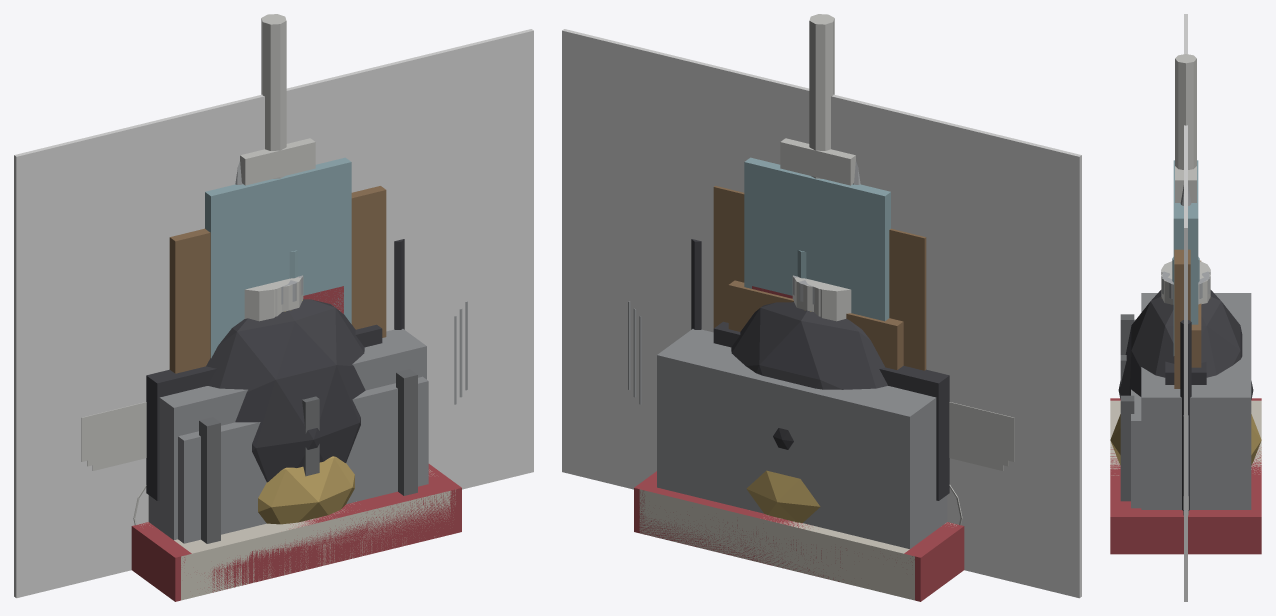
The model's file is props240.glb.
The picture shows the model from 3 angles, left to right: view 1: azimuth 30°, elevation 25°; view 2: azimuth 150°, elevation 25°; view 3: azimuth 270°, elevation 25°; orthographic projection. The views are drawn at different scales.
Parts seen in each view (by area): view 1: 129_blood_puddle_decal, 004_iv_bag, 188_waste_bag, 131_wall_scratch_decal, 178_small_crate, 123_mantra_book, 033_clipboard, 183_instrument_case, 044_lunchbox, 057_maternity_file, 130_bloody_handprint_decal, 122_copper_lota (+9 smaller); view 2: 129_blood_puddle_decal, 178_small_crate, 004_iv_bag, 130_bloody_handprint_decal, 034_patient_folder, 188_waste_bag, 033_clipboard, 123_mantra_book, 057_maternity_file, 162_bp_cuff, 092_tube_light_segment, 048_photo_frame (+7 smaller); view 3: 178_small_crate, 123_mantra_book, 188_waste_bag, 004_iv_bag, 092_tube_light_segment, 129_blood_puddle_decal, 162_bp_cuff, 033_clipboard, 183_instrument_case, 057_maternity_file, 122_copper_lota, 048_photo_frame (+3 smaller).
Part boxes in pixels (<box>): 129_blood_puddle_decal: <box>14,29,533,598</box>; 004_iv_bag: <box>205,138,351,358</box>; 188_waste_bag: <box>206,299,365,482</box>; 131_wall_scratch_decal: <box>132,59,407,401</box>; 178_small_crate: <box>148,329,426,543</box>; 123_mantra_book: <box>131,464,461,601</box>; 033_clipboard: <box>169,186,386,373</box>; 183_instrument_case: <box>178,376,428,543</box>; 044_lunchbox: <box>195,388,397,534</box>; 057_maternity_file: <box>186,490,450,575</box>; 130_bloody_handprint_decal: <box>120,110,429,568</box>; 122_copper_lota: <box>258,456,354,524</box>; 129_blood_puddle_decal: <box>562,29,1081,598</box>; 178_small_crate: <box>657,329,947,548</box>; 004_iv_bag: <box>744,138,890,321</box>; 130_bloody_handprint_decal: <box>666,85,975,386</box>; 034_patient_folder: <box>639,489,956,600</box>; 188_waste_bag: <box>731,302,887,449</box>; 033_clipboard: <box>713,186,926,370</box>; 123_mantra_book: <box>634,471,964,601</box>; 057_maternity_file: <box>645,490,909,562</box>; 162_bp_cuff: <box>691,239,949,500</box>; 092_tube_light_segment: <box>809,14,834,178</box>; 048_photo_frame: <box>728,280,903,369</box>; 178_small_crate: <box>1120,293,1251,509</box>; 123_mantra_book: <box>1110,398,1261,554</box>; 188_waste_bag: <box>1118,290,1253,399</box>; 004_iv_bag: <box>1173,160,1198,355</box>; 092_tube_light_segment: <box>1175,54,1196,169</box>; 129_blood_puddle_decal: <box>1184,14,1187,601</box>; 162_bp_cuff: <box>1165,320,1206,510</box>; 033_clipboard: <box>1174,249,1190,388</box>; 183_instrument_case: <box>1131,319,1141,508</box>; 057_maternity_file: <box>1110,403,1261,475</box>; 122_copper_lota: <box>1110,414,1261,464</box>; 048_photo_frame: <box>1191,260,1201,367</box>.
Size of the model in its own units: 0.368 by 0.35 by 0.11.
